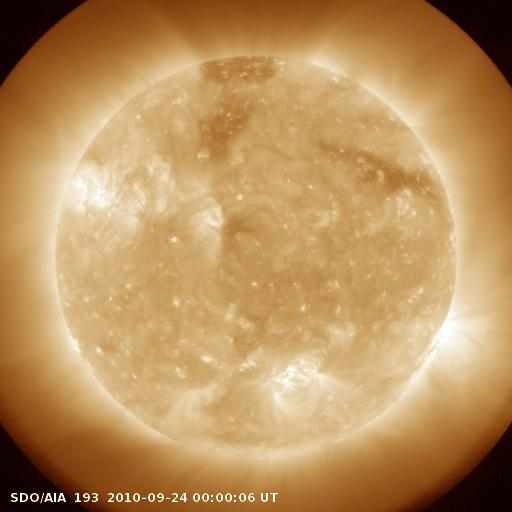coronal_hole: (192, 51, 277, 161), (329, 139, 447, 202)
